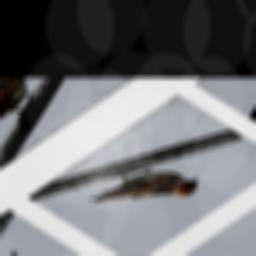Swallow: (83, 150, 207, 233)
